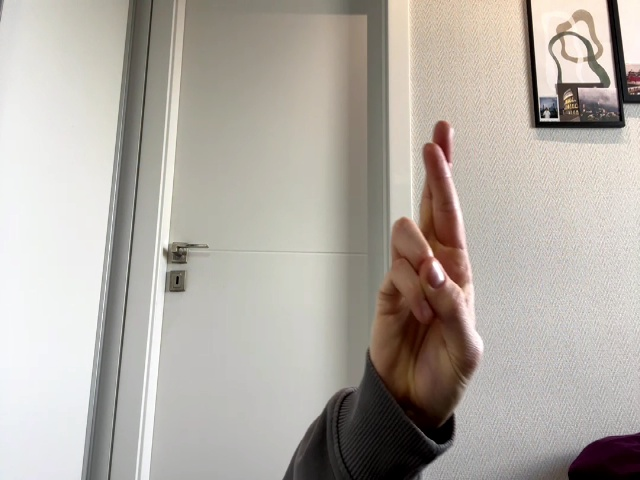R: (372, 120, 484, 409)
